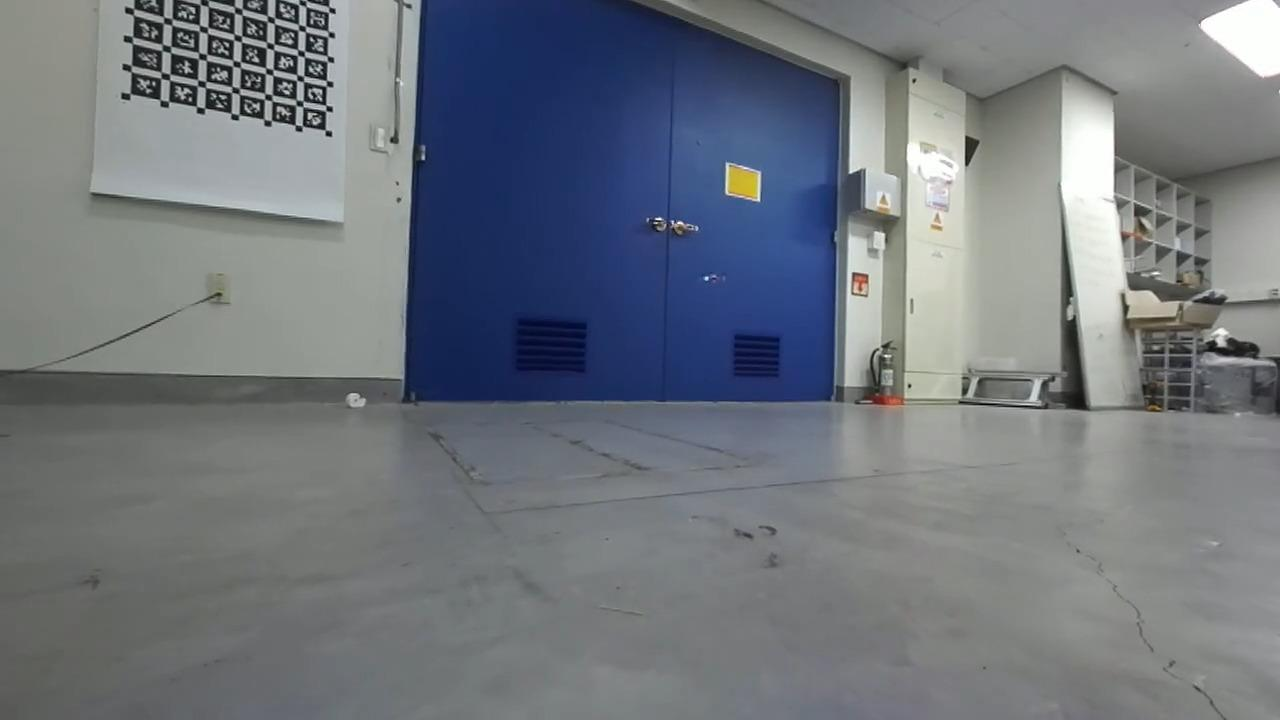crazyflie: (696, 268, 730, 288)
